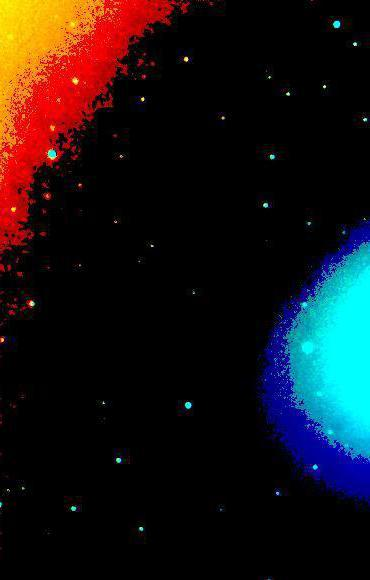star: (297, 478, 327, 508)
